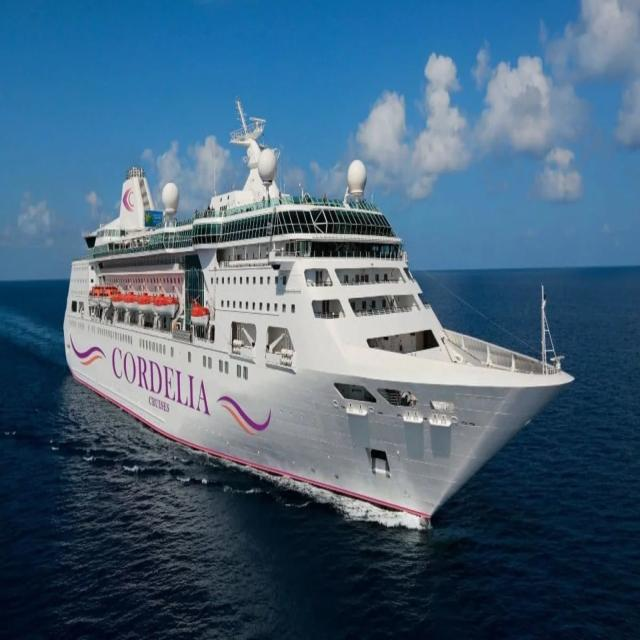passenger ship: (54, 110, 566, 508)
